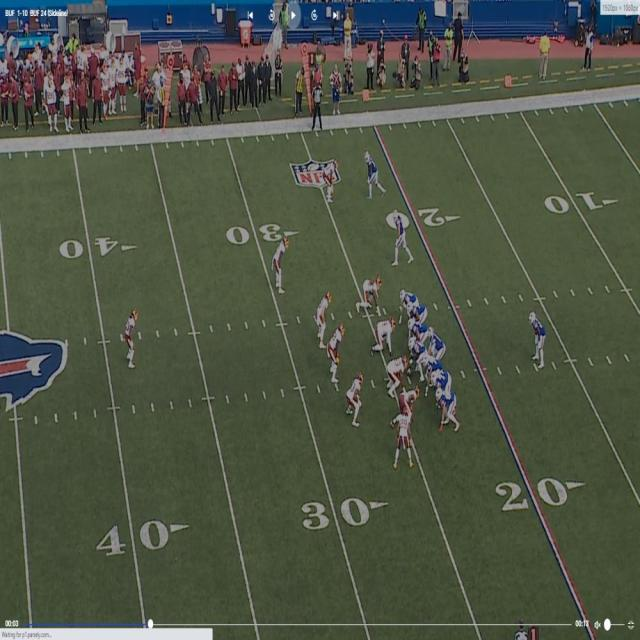center: (408, 338, 423, 374)
db: (398, 403, 414, 461), (122, 307, 136, 366), (273, 236, 288, 290), (326, 161, 340, 202)
lb: (327, 326, 344, 384), (345, 376, 362, 426), (318, 294, 332, 343)
qb: (429, 328, 445, 364)
skill: (393, 213, 411, 266), (436, 388, 459, 422), (367, 151, 384, 193), (528, 310, 541, 362), (398, 291, 414, 304)
